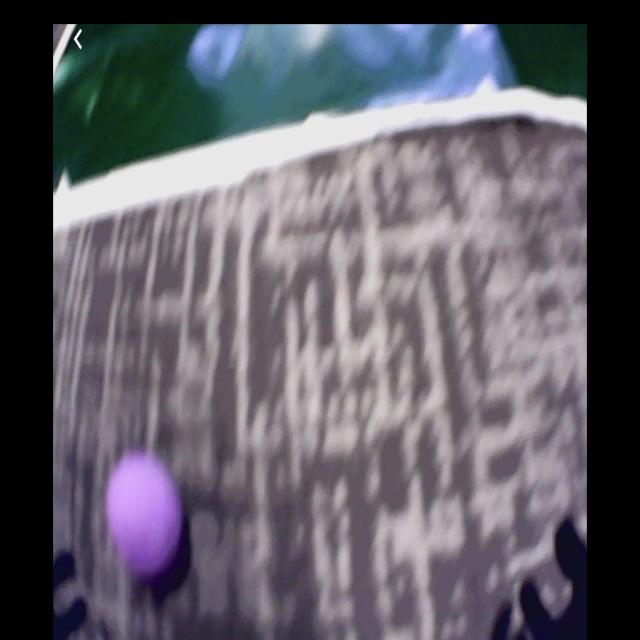ball: (105, 453, 183, 572)
